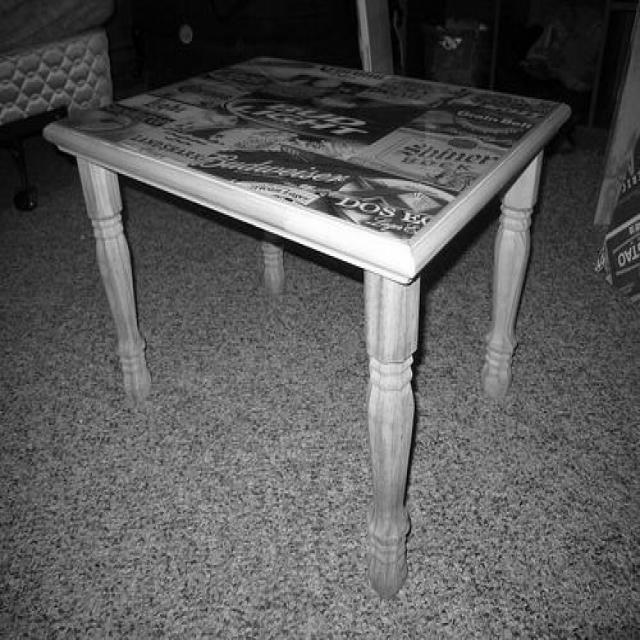table: (46, 54, 572, 599)
